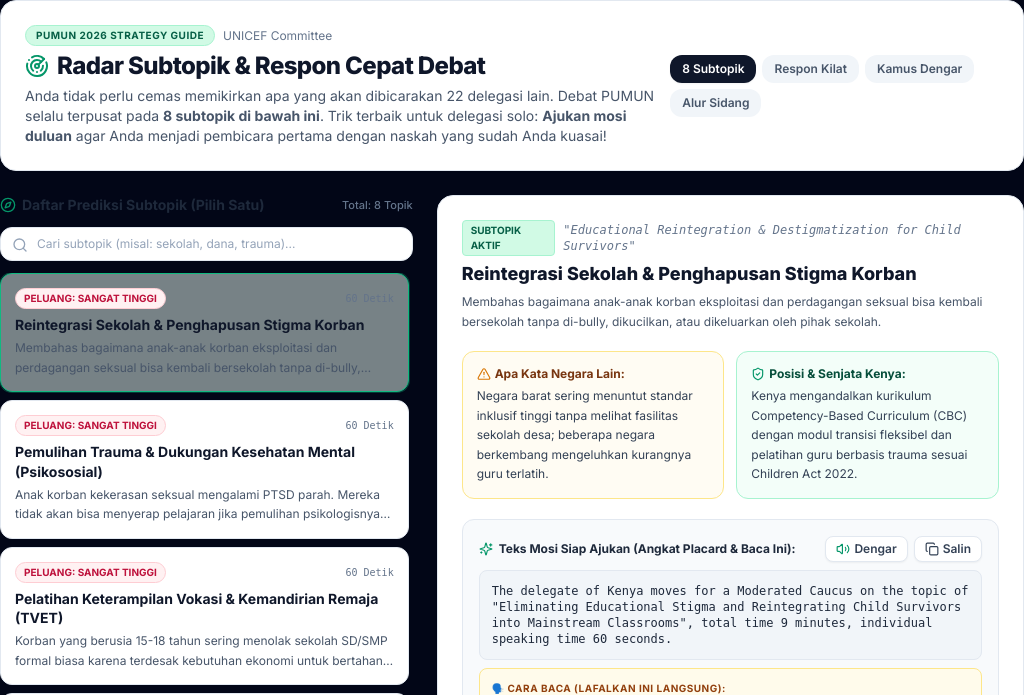
Test: DebateRadar Component › switches to crisis scenarios and keyword decoder sections
// Switch to Respon Kilat (Crisis)
Click the button "Respon Kilat" at coordinates (811, 68), box [762,54,859,82]
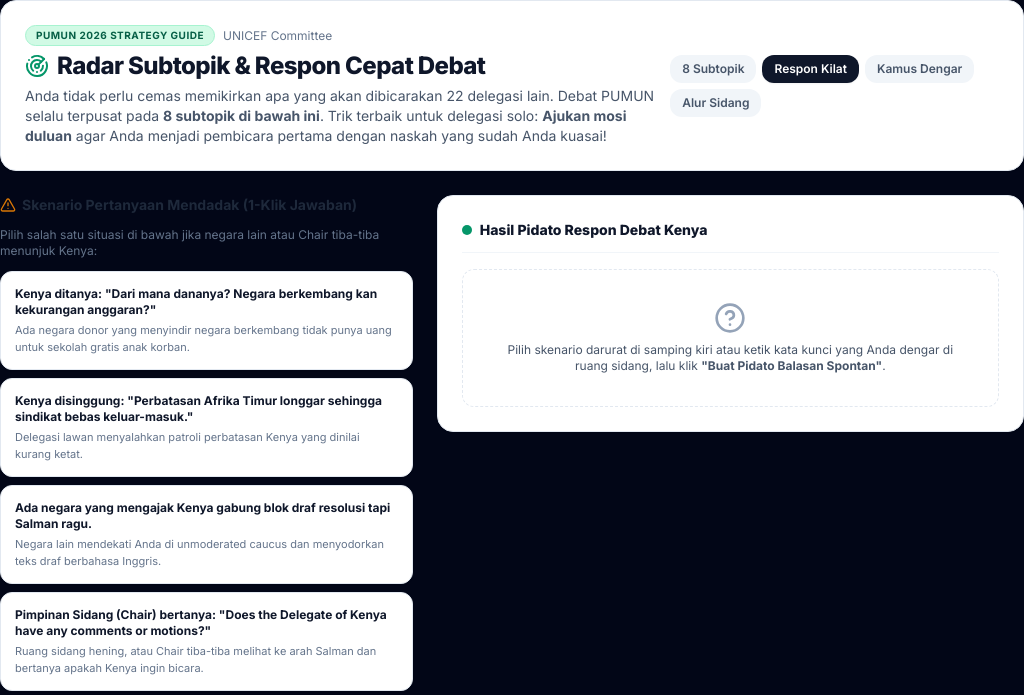
Check: the heading "Skenario Pertanyaan Mendadak (1-Klik Jawaban)" is shown, box [0,195,413,215]
// Switch to Kamus Dengar (Keywords)
Click the button "Kamus Dengar" at coordinates (920, 68), box [865,54,974,82]
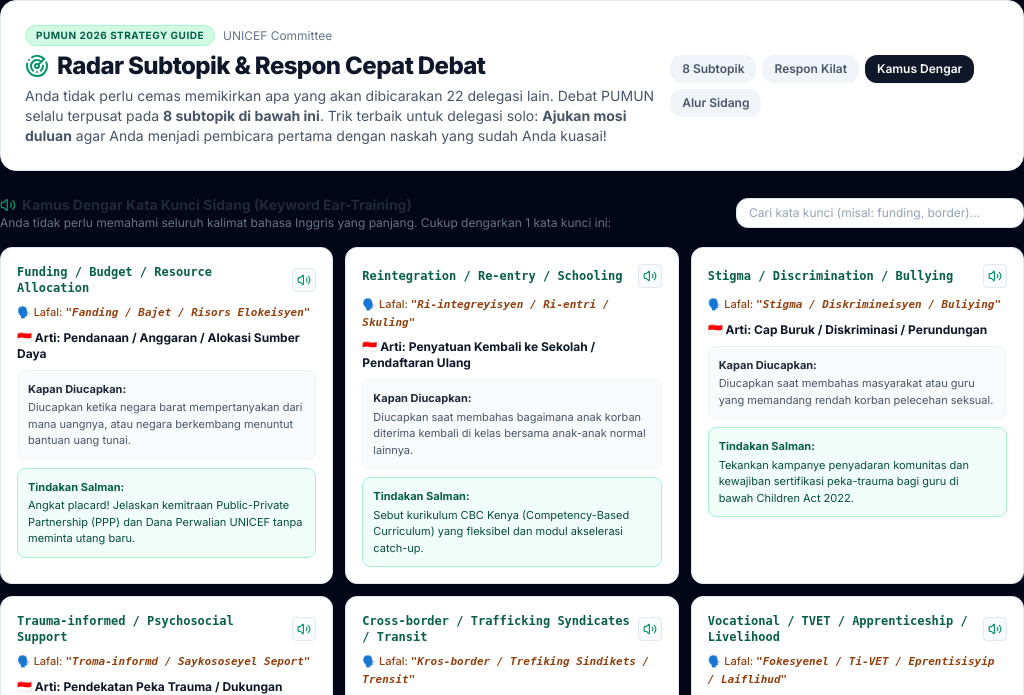
Check: the heading "Kamus Dengar Kata Kunci Sidang (Keyword Ear-Training)" is shown, box [0,196,412,213]
Check: the text "Funding / Budget / Resource Allocation" is shown, box [17,265,212,295]
// Switch to Alur Sidang (Guide)
Click the button "Alur Sidang" at coordinates (716, 102), box [670,88,761,116]
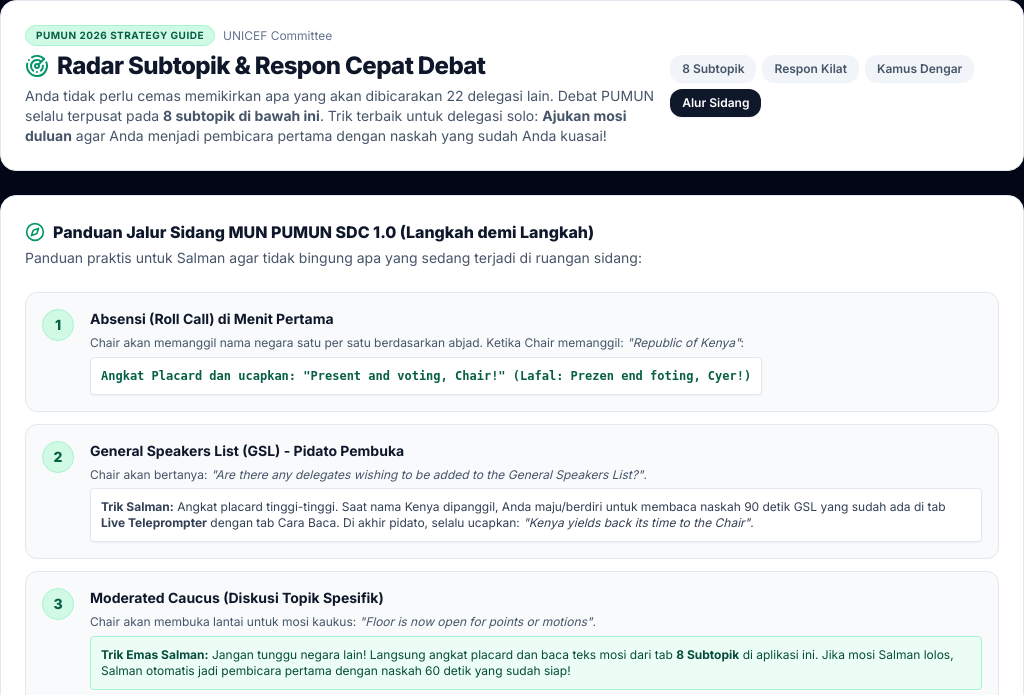
Check: the heading "Panduan Jalur Sidang MUN PUMUN SDC 1.0" is shown, box [53,222,594,242]
